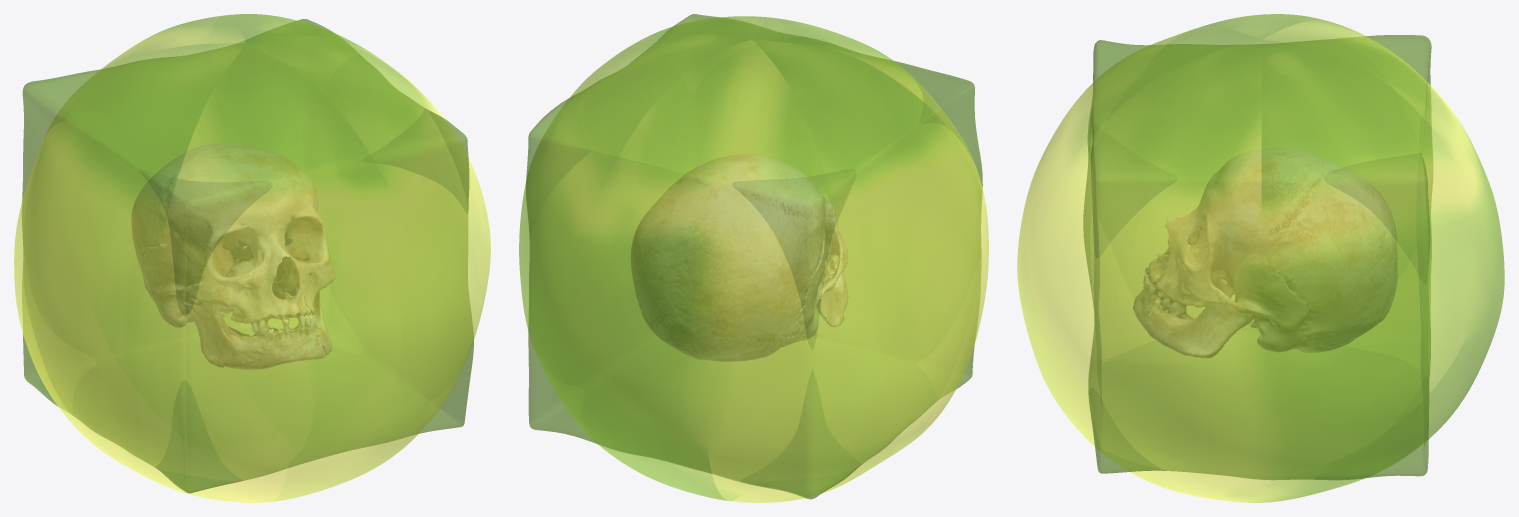
The model's file is experiemental.glb.
The picture shows the model from 3 angles, left to right: view 1: azimuth 30°, elevation 25°; view 2: azimuth 150°, elevation 25°; view 3: azimuth 270°, elevation 25°; orthographic projection. The views are drawn at different scales.
Parts seen in each view (by area): view 1: Icosphere, Cube, Skull; view 2: Icosphere, Cube, Skull; view 3: Icosphere, Cube, Skull.
Boxes of the visible parts, <box> form: Icosphere: <box>14,14,490,502</box>; Cube: <box>22,19,473,493</box>; Skull: <box>131,144,335,369</box>; Icosphere: <box>519,16,988,502</box>; Cube: <box>526,14,982,499</box>; Skull: <box>631,154,848,361</box>; Icosphere: <box>1017,14,1504,502</box>; Cube: <box>1083,35,1432,480</box>; Skull: <box>1133,148,1397,357</box>.
Bounding box in the file's own units: 0.5372 × 0.5456 × 0.541.
2 materials, 2 textured.
